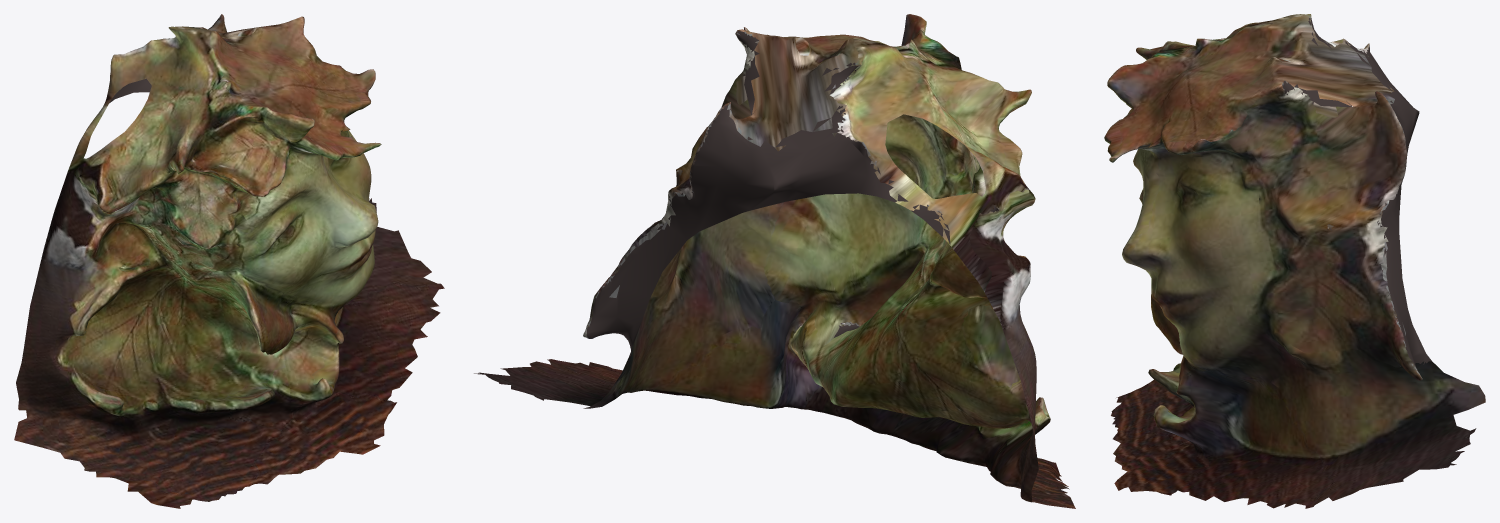
The model's file is bladerKop.glb.
3 renders of one model, left to right at view 1: azimuth 30°, elevation 25°; view 2: azimuth 150°, elevation 25°; view 3: azimuth 270°, elevation 25°, orthographic. The views are drawn at different scales.
Visible parts, largest first — view 1: bladerKop; view 2: bladerKop; view 3: bladerKop.
Boxes of the visible parts, x1=… form: bladerKop: x1=14, y1=14, x2=444, y2=508; bladerKop: x1=474, y1=14, x2=1075, y2=508; bladerKop: x1=1104, y1=14, x2=1485, y2=508.
Size of the model in its own units: 20.25 by 17.34 by 13.98.
1 material, 1 textured.
